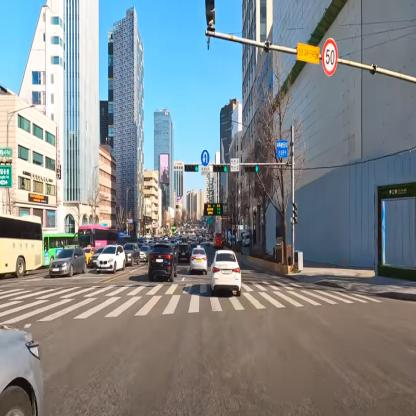Green: (213, 164, 228, 174), (244, 165, 259, 174), (184, 164, 199, 172)
